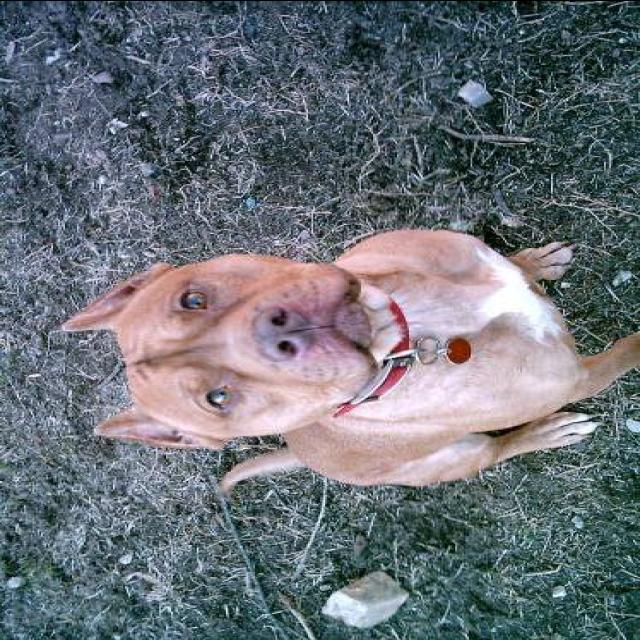dog: (53, 200, 640, 514)
